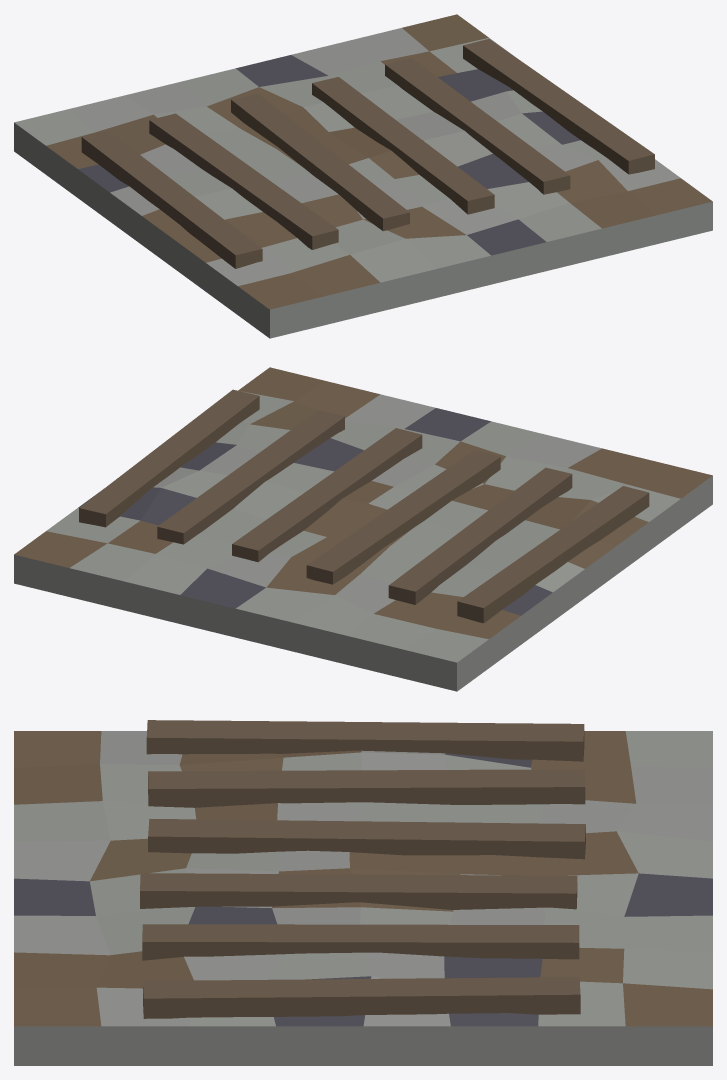
Rendered from ground_ballast.glb.
The picture shows the model from 3 angles, top to bottom: view 1: azimuth 30°, elevation 25°; view 2: azimuth 150°, elevation 25°; view 3: azimuth 270°, elevation 25°; orthographic projection. The views are drawn at different scales.
Parts seen in each view (by area): view 1: ground_ballast; view 2: ground_ballast; view 3: ground_ballast.
Boxes of the visible parts, left/top/right/bottom form: ground_ballast: left=14, top=14, right=712, bottom=338; ground_ballast: left=14, top=367, right=712, bottom=691; ground_ballast: left=14, top=720, right=712, bottom=1065.
Bounding box in the file's own units: 4 × 0.38 × 4.
